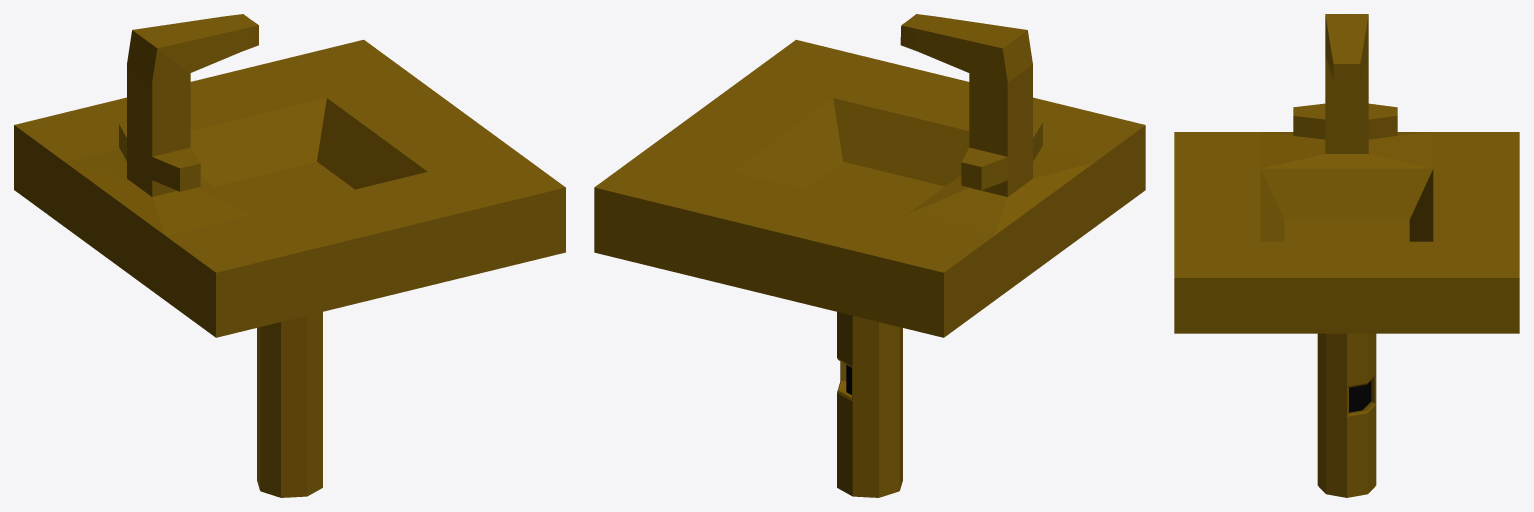
The model's file is Sink_Broken.fbx.
3 views of the same model, side by side, from view 1: azimuth 30°, elevation 25°; view 2: azimuth 150°, elevation 25°; view 3: azimuth 270°, elevation 25° (orthographic). The views are drawn at different scales.
Parts seen in each view (by area): view 1: Sink_Damaged; view 2: Sink_Damaged; view 3: Sink_Damaged.
Part boxes in pixels (x1=…): Sink_Damaged: x1=14, y1=14, x2=565, y2=497; Sink_Damaged: x1=594, y1=14, x2=1145, y2=497; Sink_Damaged: x1=1174, y1=14, x2=1519, y2=497.
Bounding box in the file's own units: 5.62 × 7.38 × 5.62.
